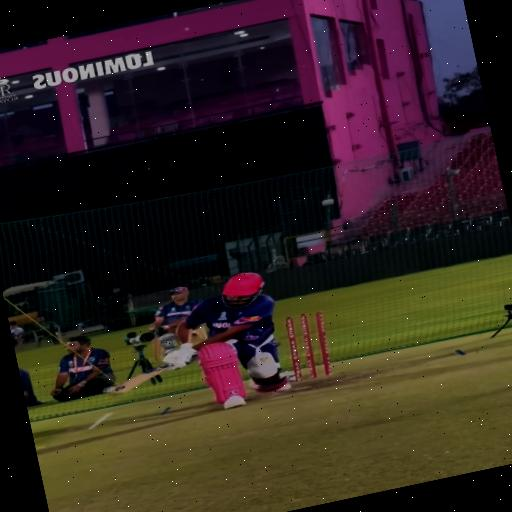Cricket bat: (112, 363, 170, 393)
